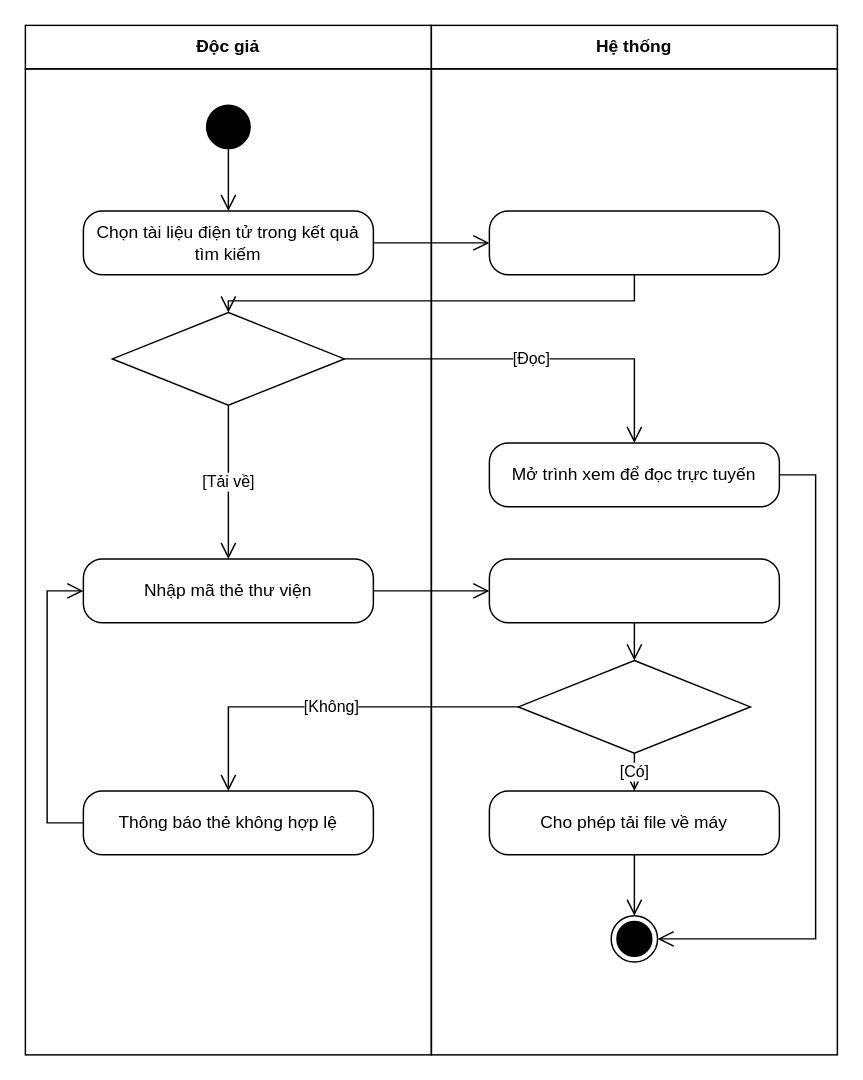
Image size: 863x1080. Some labels were removed from this diagram. Each missing label, with the centre of its shape:
"Hiển thị thông tin chi tiết tài liệu" goes at point 633,242.
"Kiểm tra mã thẻ còn hiệu lực" goes at point 633,590.
"Thẻ hợp lệ?" goes at point 633,706.
"Đọc hay tải về?" goes at point 227,358.
